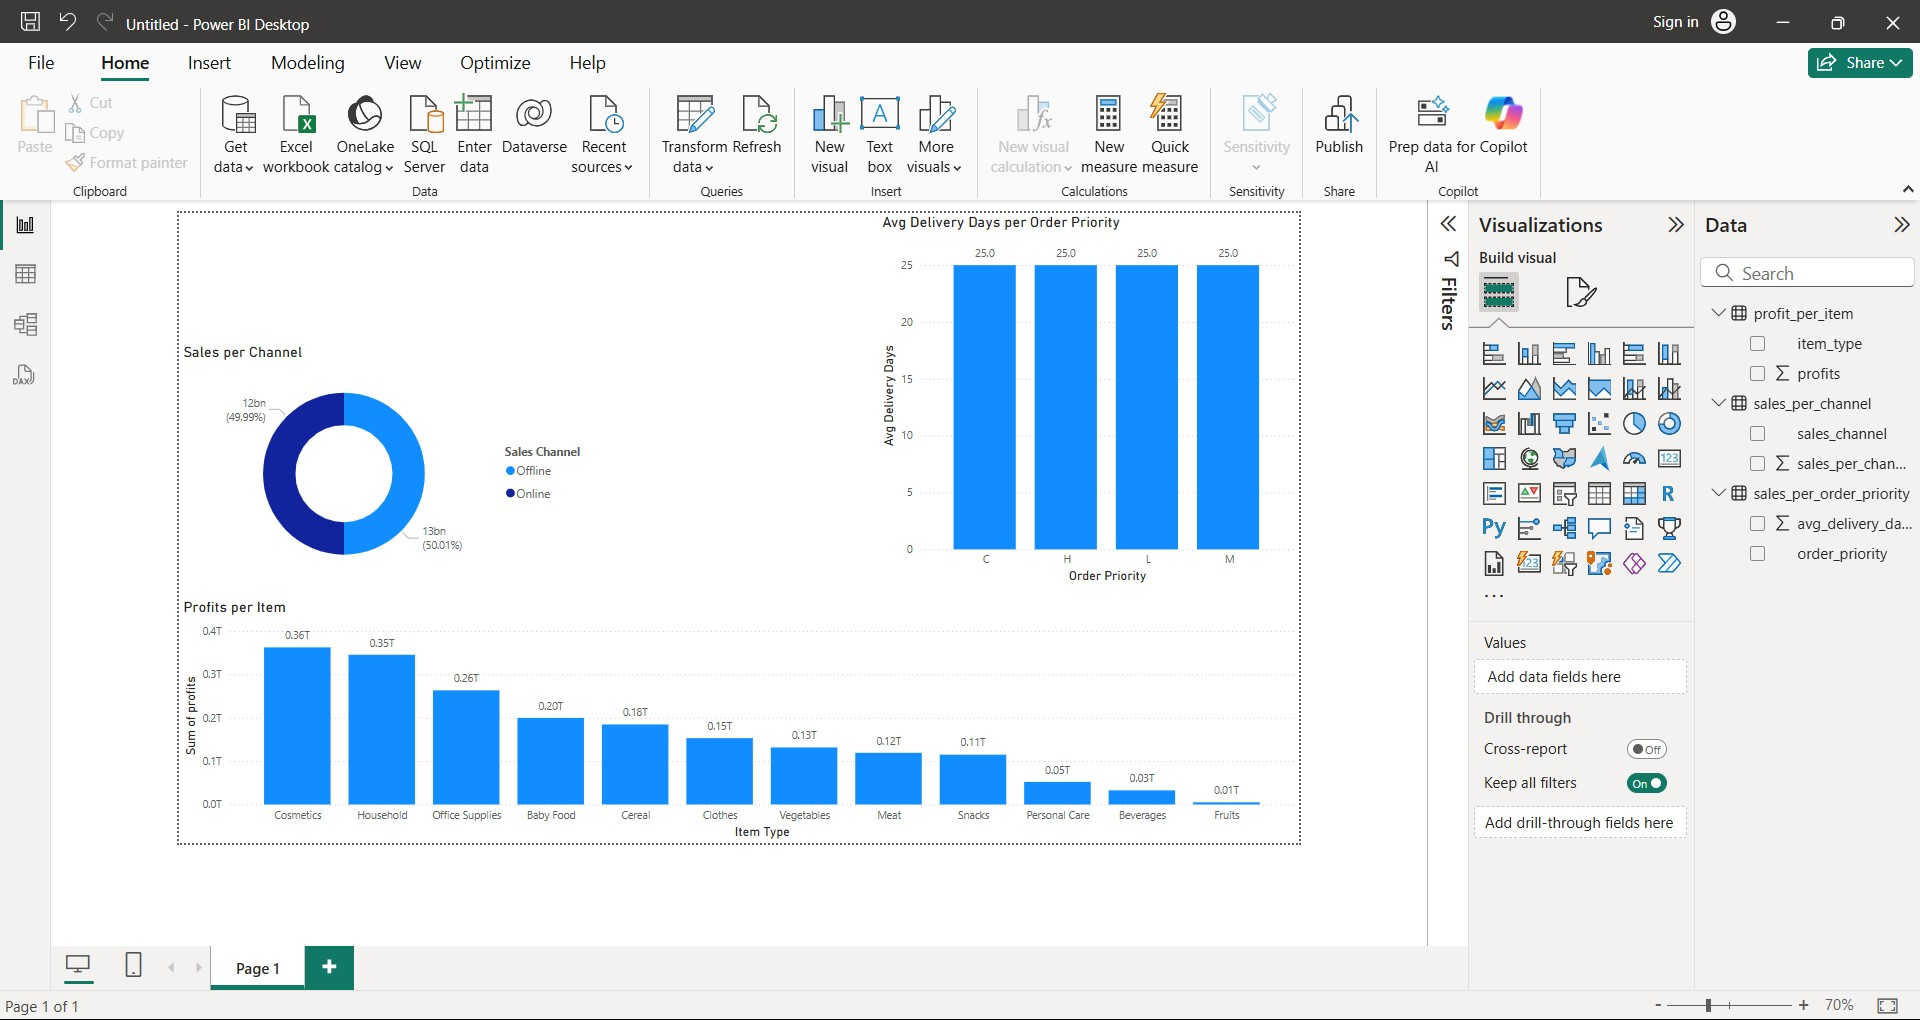

The dashboard page shown, as its layout file describes it:
{"tool":"powerbi","page":{"name":"Page 1","canvas":[1280,720],"ordinal":0},"visuals":[{"type":"clusteredColumnChart","title":"Profits per Item","fields":{"Category":["Query1.item_type"],"Y":["Sum(Query1.profits)"]},"box":[8.6,360,837.1,352.9],"z":0},{"type":"donutChart","title":"Sales per Channel","fields":{"Category":["sales_per_channel.sales_channel"],"Y":["Sum(sales_per_channel.sales_per_channel)"]},"box":[855.7,448.6,414.3,264.3],"z":1000},{"type":"pieChart","title":"Avg Delivery Days per Order Priority","fields":{"Category":["sales_per_order_priority.order_priority"],"Y":["Sum(sales_per_order_priority.avg_delivery_days)"]},"box":[855.7,201.4,414.3,238.6],"z":2000},{"type":"lineChart","fields":{"Category":["year_over_year_growth.year"],"Y":["Sum(year_over_year_growth.growth_rate)"]},"box":[8.6,25.7,837.1,327.1],"z":3000},{"type":"card","fields":{"Values":["Sum(Query2.projected_units_sold)"]},"box":[855.7,10,414.3,180],"z":4000}]}

Visuals, with their boxes on the page's 1280x720 design canvas (x1, y1, x2, y2). These are canvas units, not pixel positions in the 1920x1020 screenshot, which may show the page scaled, cropped or inside an application window:
"Profits per Item" clusteredColumnChart: 9, 360, 846, 713
"Sales per Channel" donutChart: 856, 449, 1270, 713
"Avg Delivery Days per Order Priority" pieChart: 856, 201, 1270, 440
lineChart - year_over_year_growth.year x Sum(year_over_year_growth.growth_rate): 9, 26, 846, 353
card - Sum(Query2.projected_units_sold): 856, 10, 1270, 190
